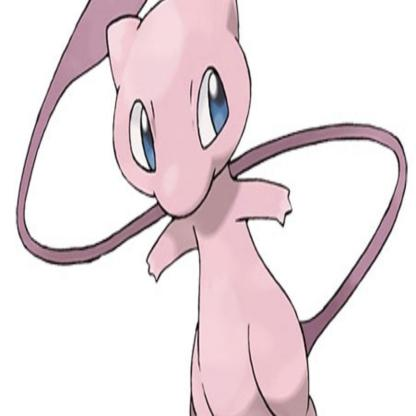Mew: (64, 67, 331, 416)
